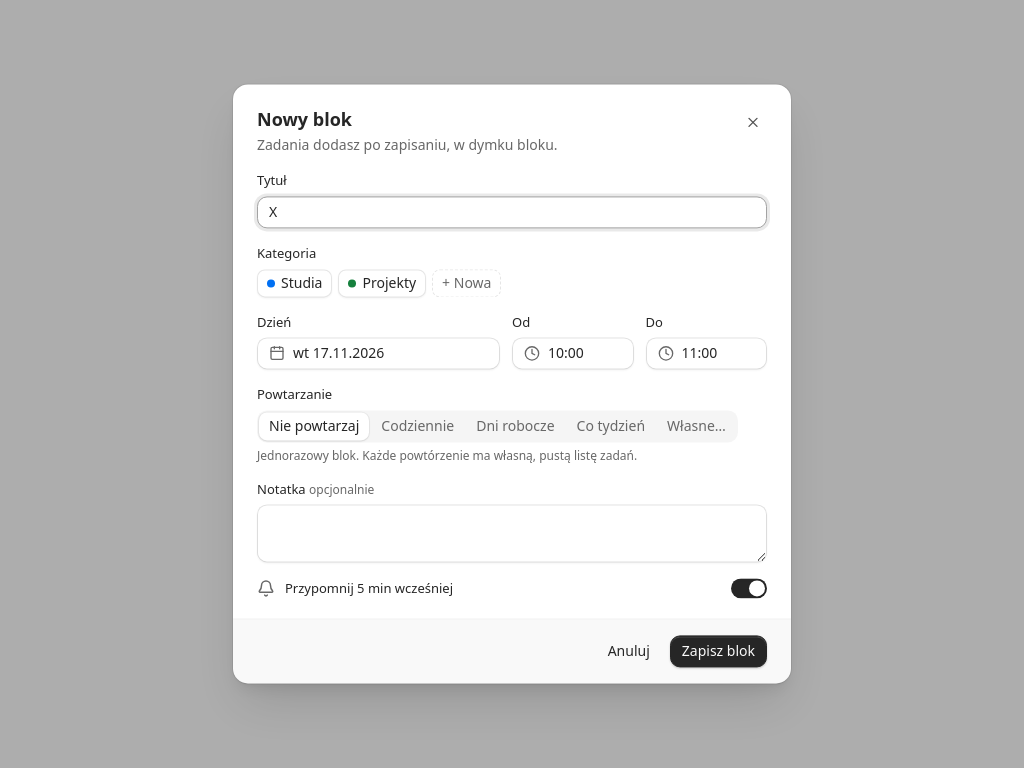
it: BlockDialog › „Własne…” bez dni blokuje zapis
The image size is (1024, 768).
Click the radio button labelled "Własne…" at (696, 426), box [657, 412, 736, 440]
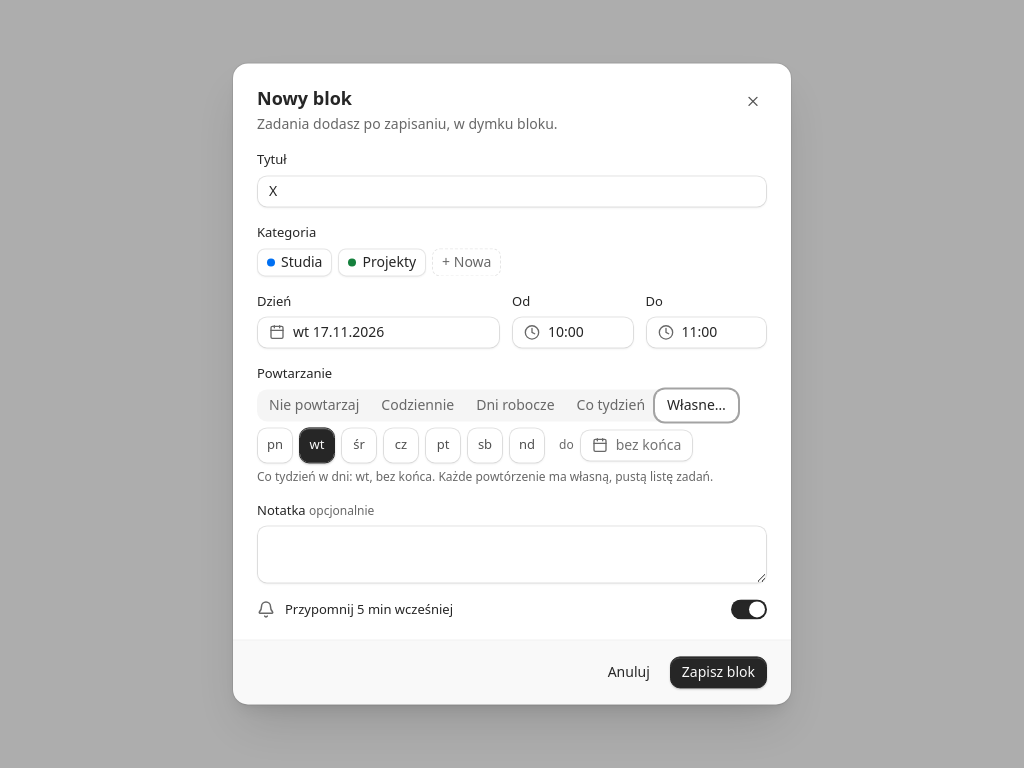
Click the button "wt" at (317, 445), box [299, 427, 335, 463]
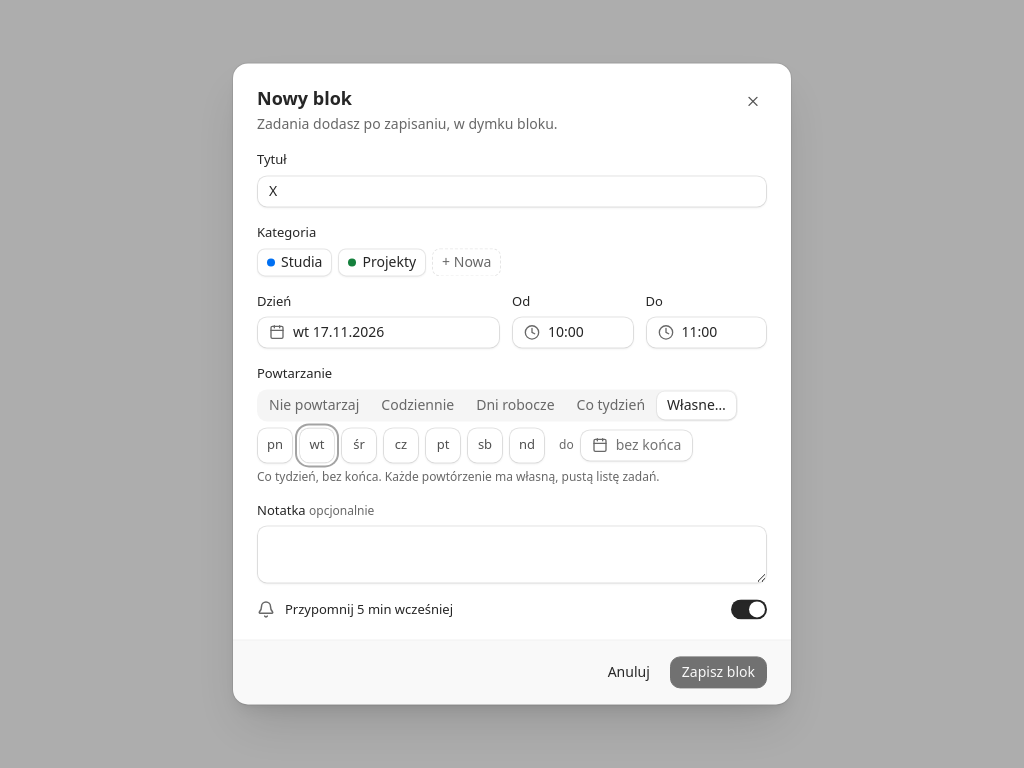
expect the button "Zapisz blok" is disabled: met, box [670, 657, 767, 689]
Click the button "pt" at (443, 445), box [425, 427, 461, 463]
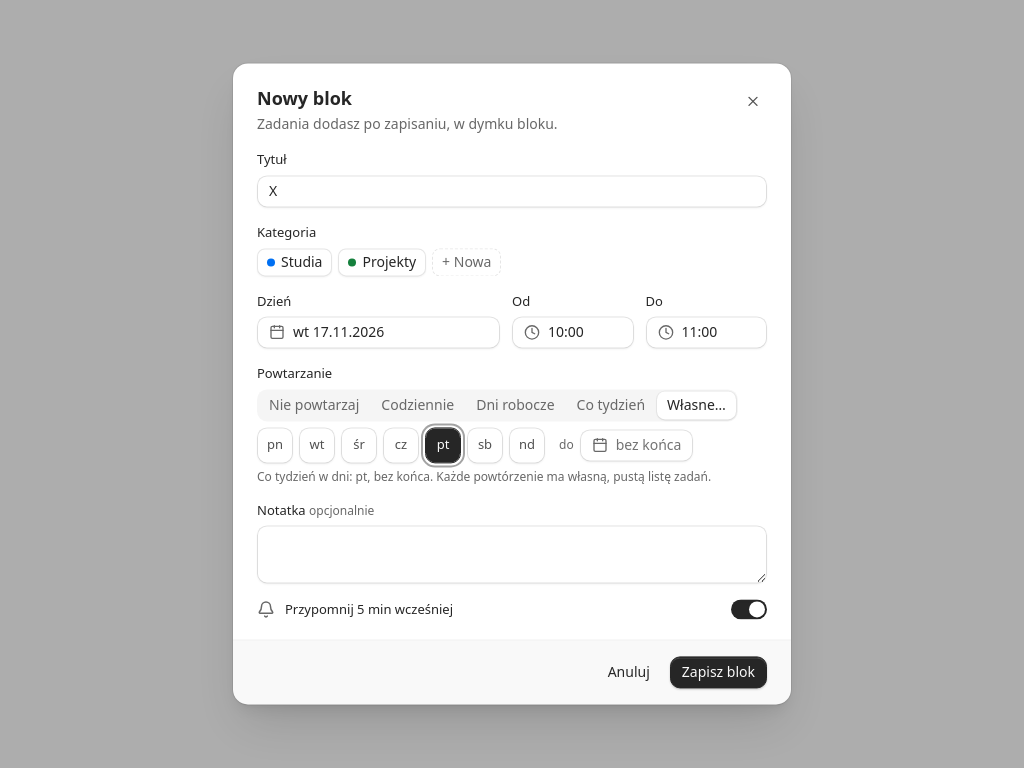
expect the button "Zapisz blok" is enabled: met, box [670, 657, 767, 689]
